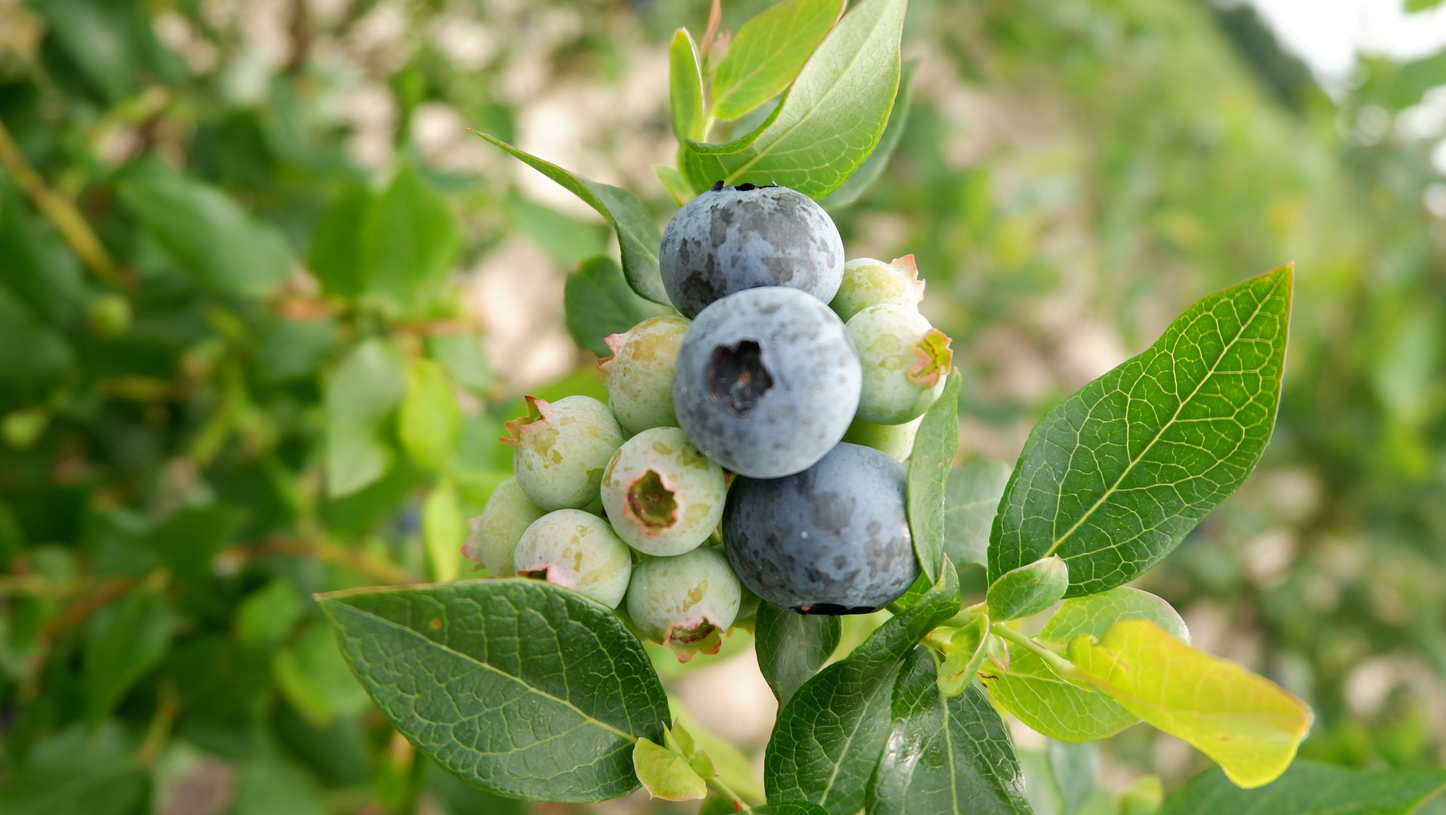Immature: (600, 426, 727, 557), (498, 395, 626, 512), (628, 545, 743, 663), (845, 304, 953, 425), (514, 508, 631, 610), (595, 314, 693, 435), (459, 474, 549, 578), (828, 254, 925, 325), (840, 412, 928, 464)
Mature: (671, 286, 862, 479), (722, 441, 923, 615), (660, 177, 847, 320)
